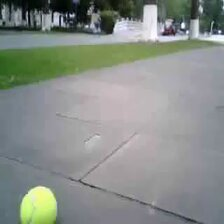tennis: (19, 186, 57, 224)
